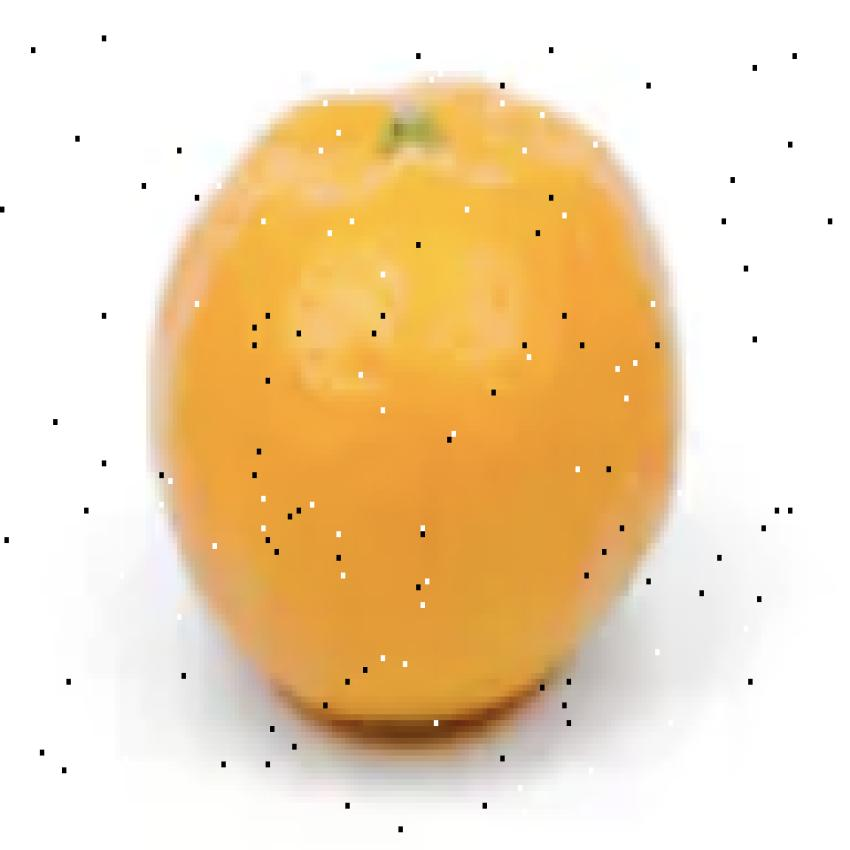Buen estado: (131, 74, 707, 744)
